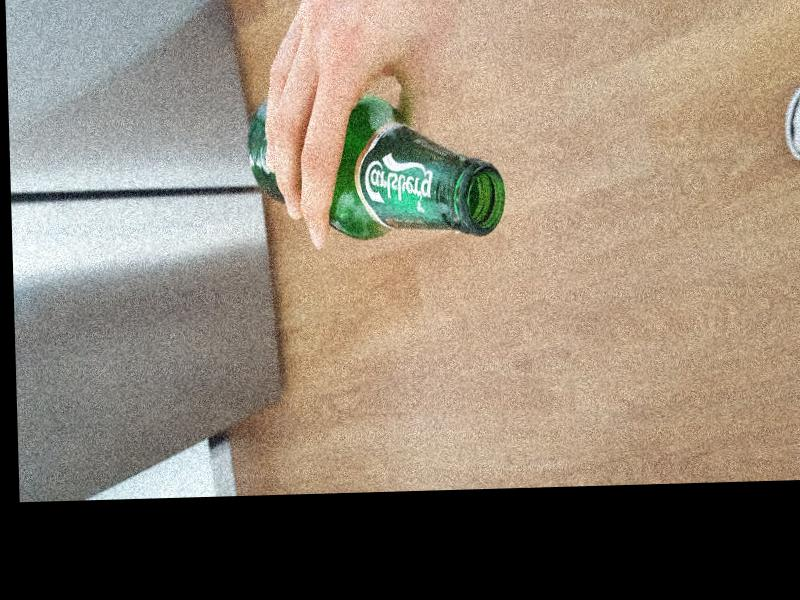Beer: (247, 92, 506, 241)
